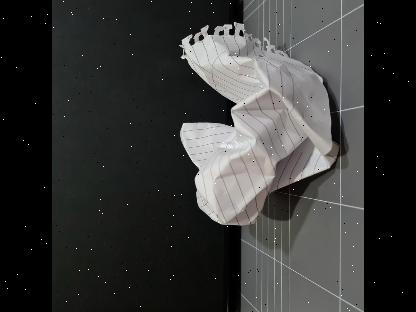Others: (184, 21, 328, 225)
